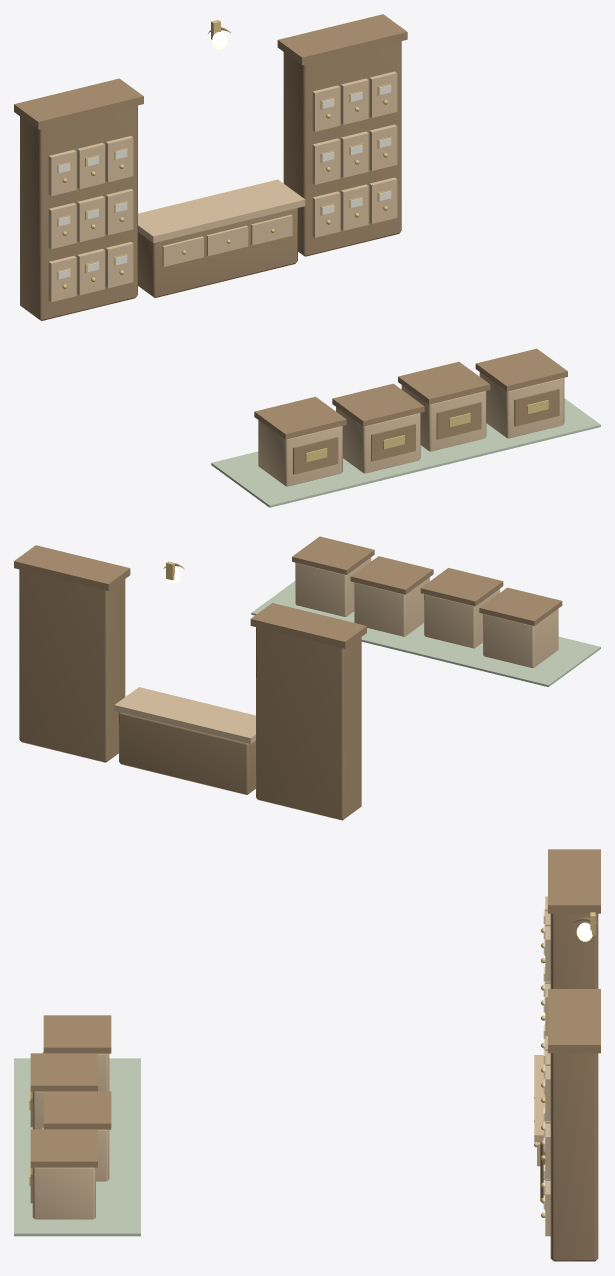
Rendered from memory_furniture.glb.
The picture shows the model from 3 angles, top to bottom: view 1: azimuth 30°, elevation 25°; view 2: azimuth 150°, elevation 25°; view 3: azimuth 270°, elevation 25°; orthographic projection. The views are drawn at different scales.
Visible parts, largest first — view 1: Memory_Furniture_Set; view 2: Memory_Furniture_Set; view 3: Memory_Furniture_Set.
Boxes of the visible parts, x1,y1,x2,y2 form: Memory_Furniture_Set: [14, 14, 600, 507]; Memory_Furniture_Set: [14, 536, 600, 820]; Memory_Furniture_Set: [14, 849, 600, 1261].
Bounding box in the file's own units: 3.64 × 2.17 × 4.44.
